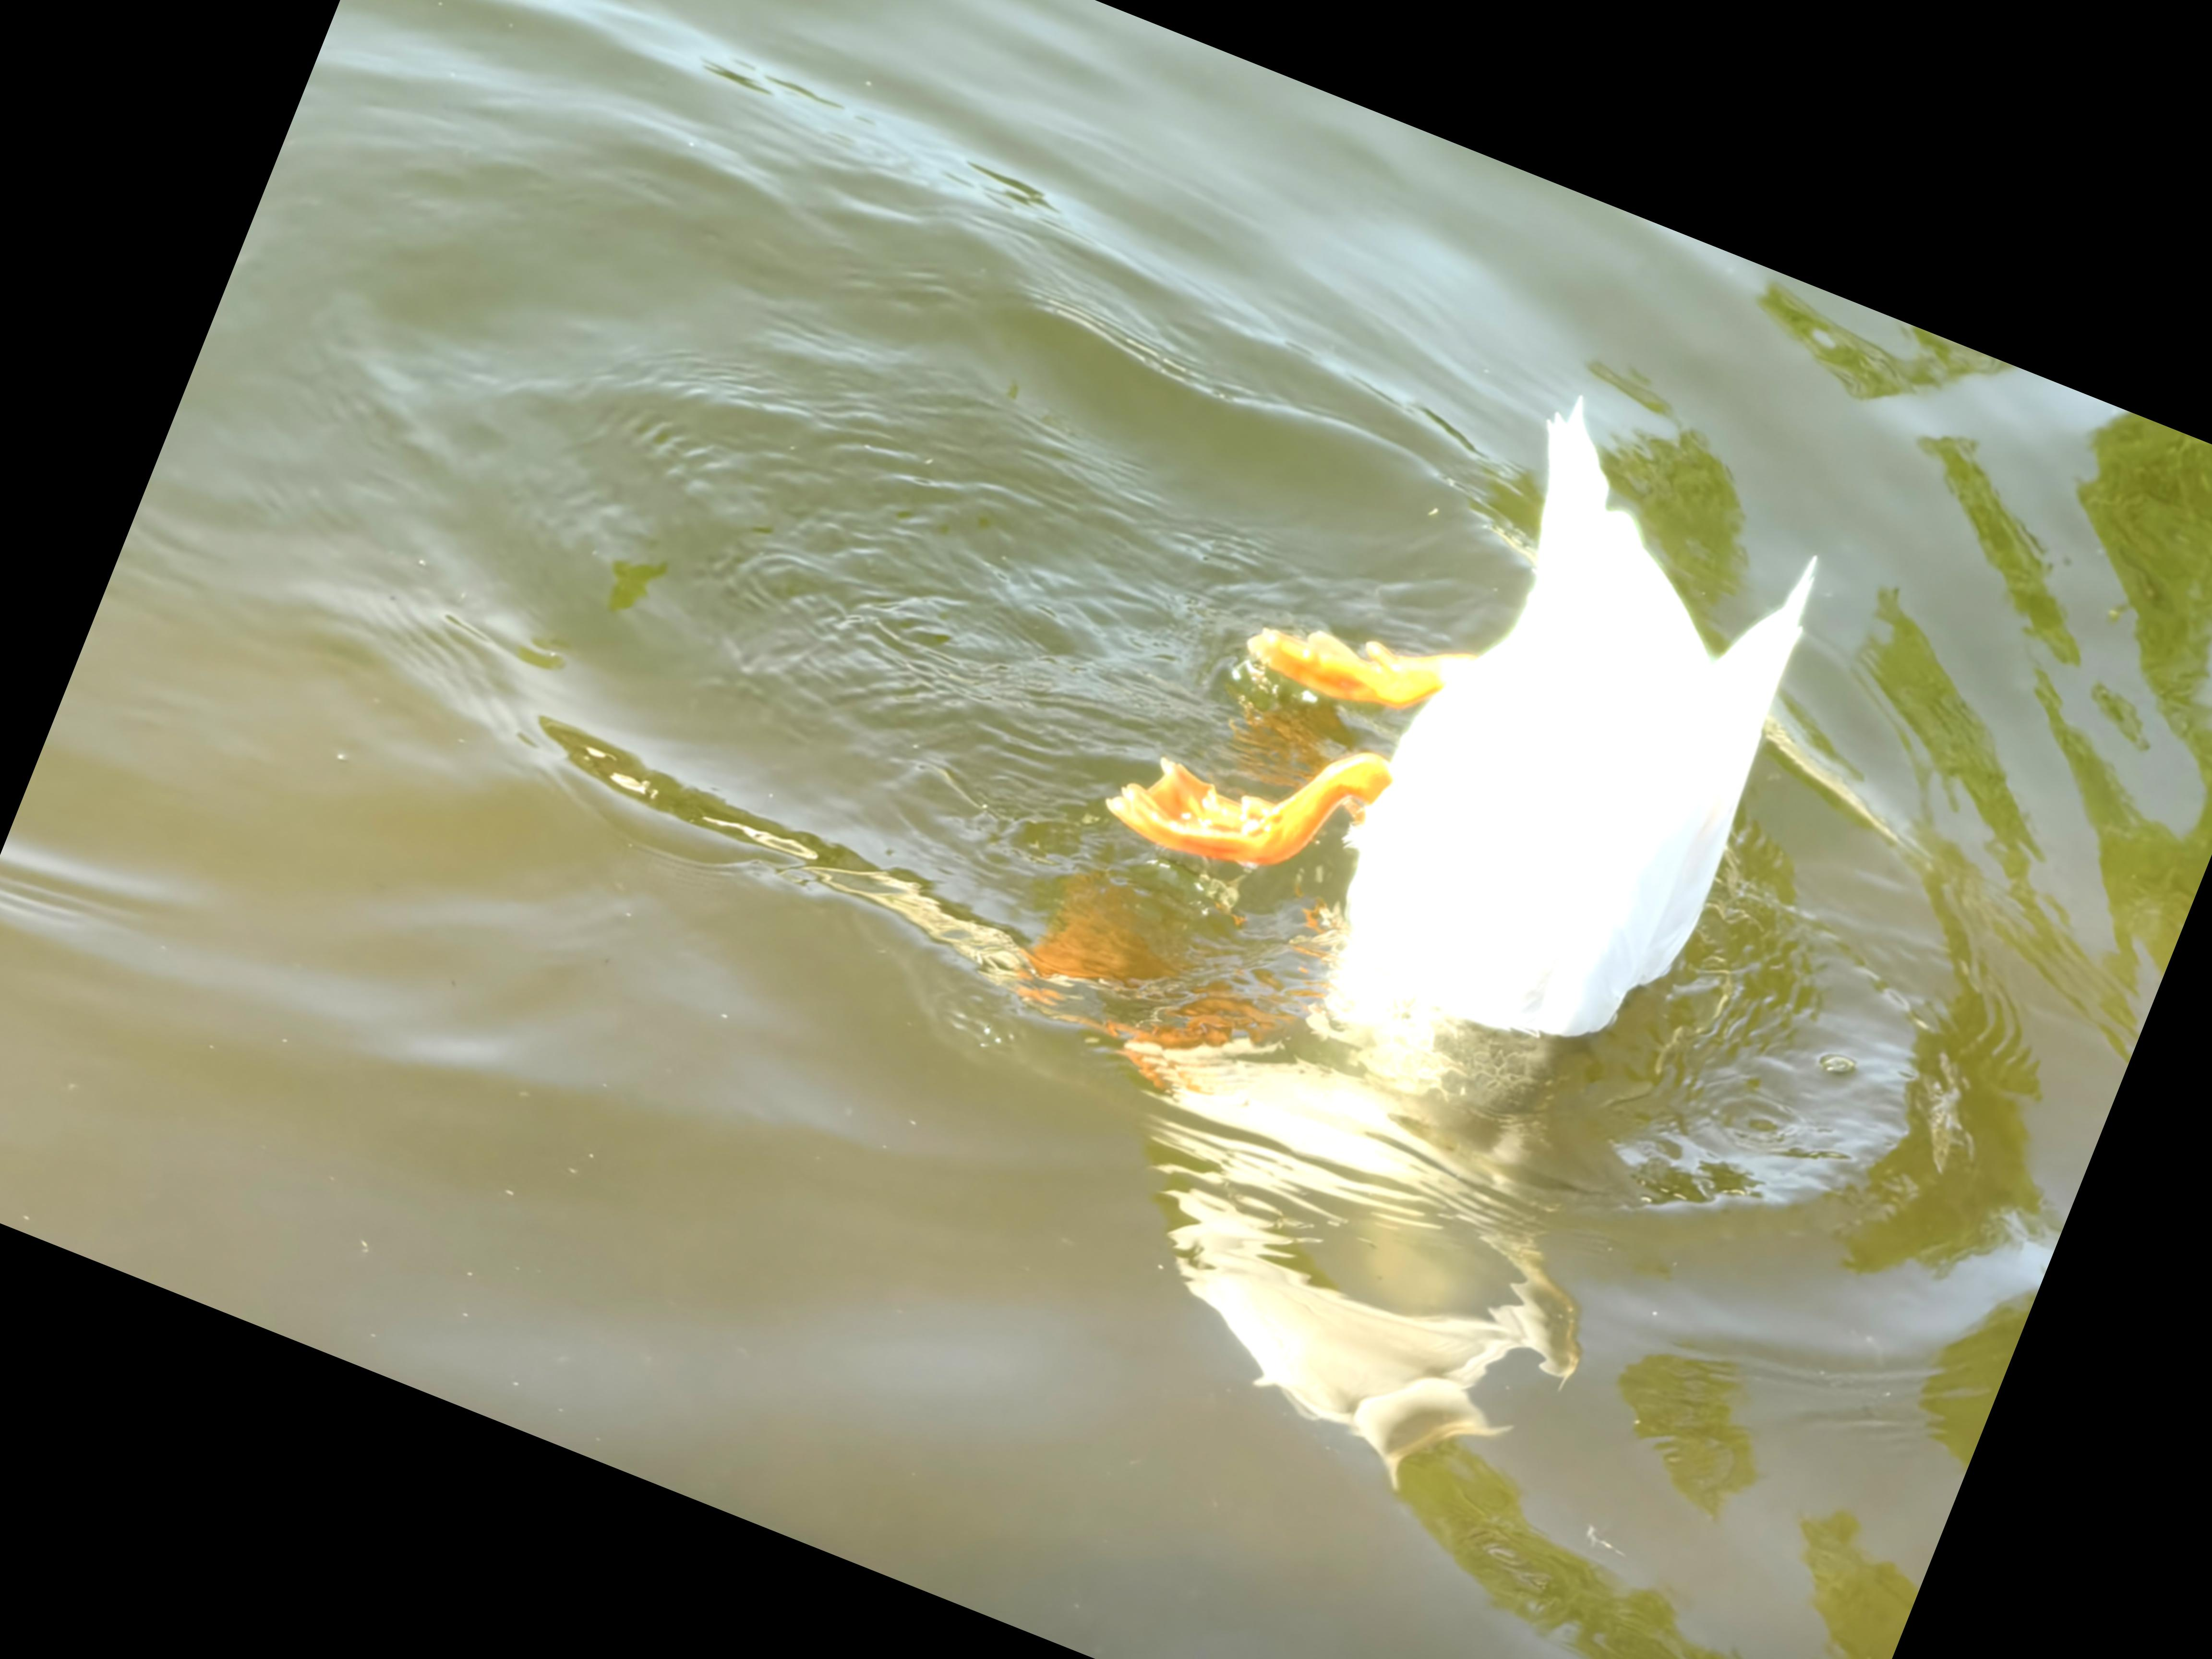duck: (1090, 281, 1893, 1115)
